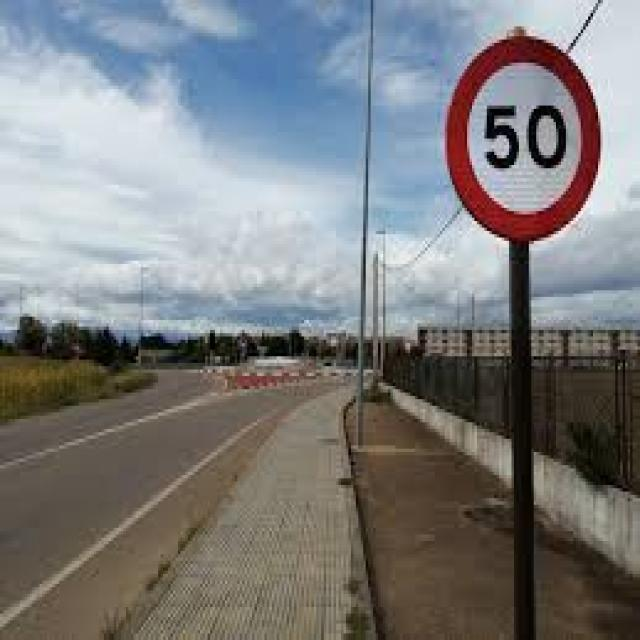Speed limit 50: (441, 28, 604, 245)
